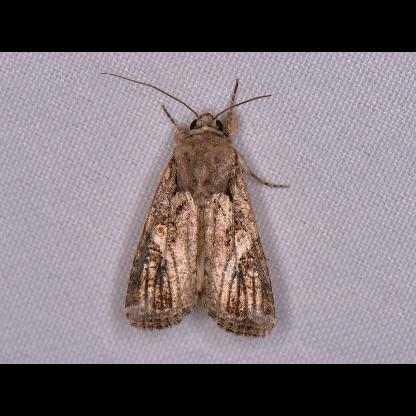Fall Armyworm Moth: (100, 70, 292, 340)
